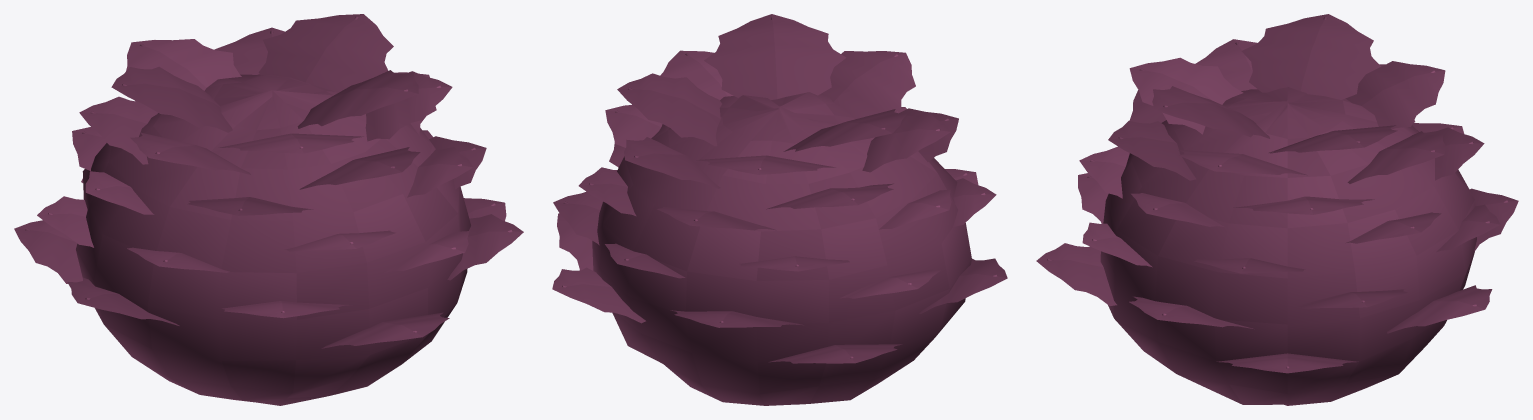
File: RedCabbage.glb
The picture shows the model from 3 angles, left to right: view 1: azimuth 30°, elevation 25°; view 2: azimuth 150°, elevation 25°; view 3: azimuth 270°, elevation 25°; orthographic projection. The views are drawn at different scales.
Parts seen in each view (by area): view 1: RedCabbage; view 2: RedCabbage; view 3: RedCabbage.
Part boxes in pixels (x1,y1,x2,y2): RedCabbage: [14, 14, 523, 405]; RedCabbage: [552, 14, 1007, 405]; RedCabbage: [1036, 14, 1518, 405].
Size of what is drawn, in the model's own units: 0.1703 by 0.1178 by 0.164.
